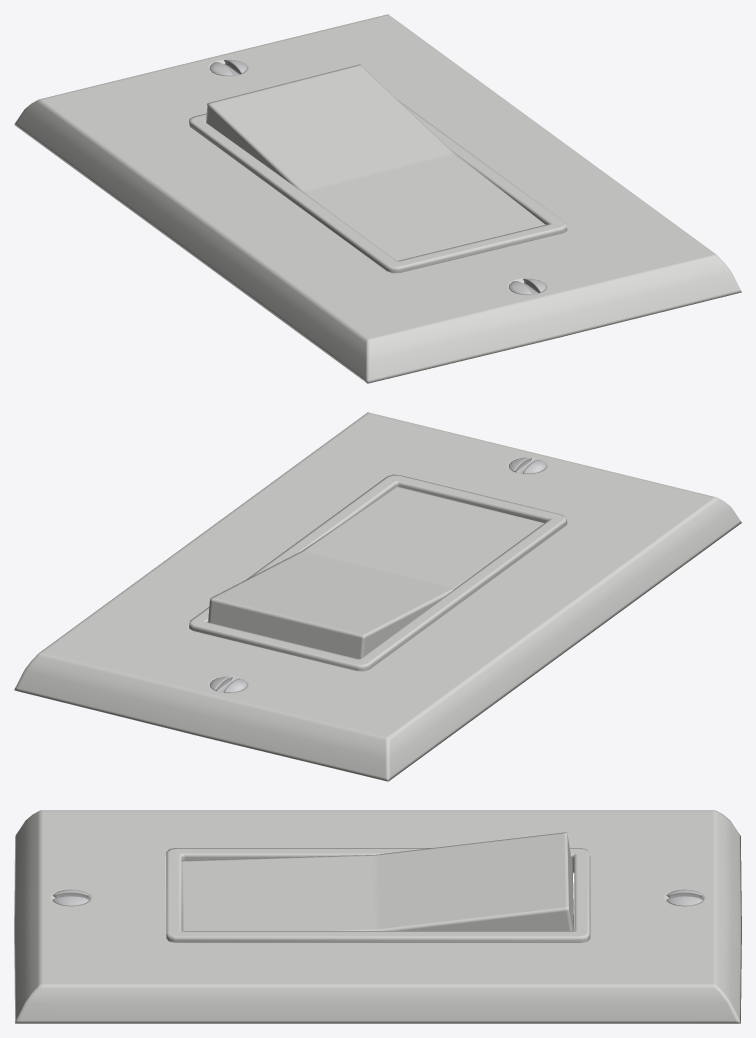
The model's file is switch.glb.
3 renders of one model, top to bottom at view 1: azimuth 30°, elevation 25°; view 2: azimuth 150°, elevation 25°; view 3: azimuth 270°, elevation 25°, orthographic. The views are drawn at different scales.
Parts seen in each view (by area): view 1: Wallplate_Duplex_Rectangle.002, Switch, Switch_Edging; view 2: Wallplate_Duplex_Rectangle.002, Switch, Switch_Edging; view 3: Wallplate_Duplex_Rectangle.002, Switch, Switch_Edging, Screw.008, Screw.006.
Part boxes in pixels (bbox=[...]): Wallplate_Duplex_Rectangle.002: bbox=[14, 14, 741, 383]; Switch: bbox=[206, 64, 545, 260]; Switch_Edging: bbox=[189, 99, 566, 272]; Wallplate_Duplex_Rectangle.002: bbox=[14, 412, 741, 781]; Switch: bbox=[208, 486, 543, 658]; Switch_Edging: bbox=[189, 474, 566, 670]; Wallplate_Duplex_Rectangle.002: bbox=[14, 810, 741, 1023]; Switch: bbox=[181, 832, 574, 930]; Switch_Edging: bbox=[166, 848, 589, 942]; Screw.008: bbox=[52, 889, 89, 906]; Screw.006: bbox=[666, 889, 702, 906].
Bounding box in the file's own units: 0.0699 × 0.0104 × 0.1146.
Materials: 1 (1 with a texture image).
